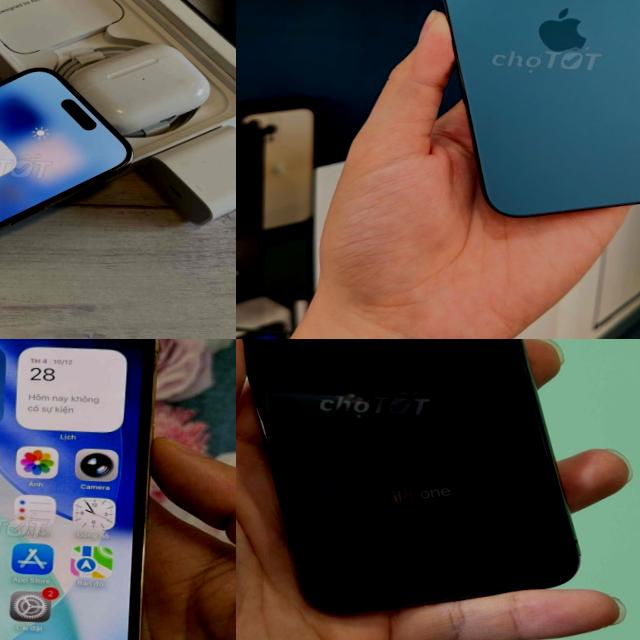gen_12_13: (402, 0, 640, 228), (0, 339, 167, 640)
gen_15: (0, 51, 139, 319)
gen_x_xs: (243, 339, 578, 611)
scratch: (308, 496, 374, 554), (458, 522, 518, 563)
